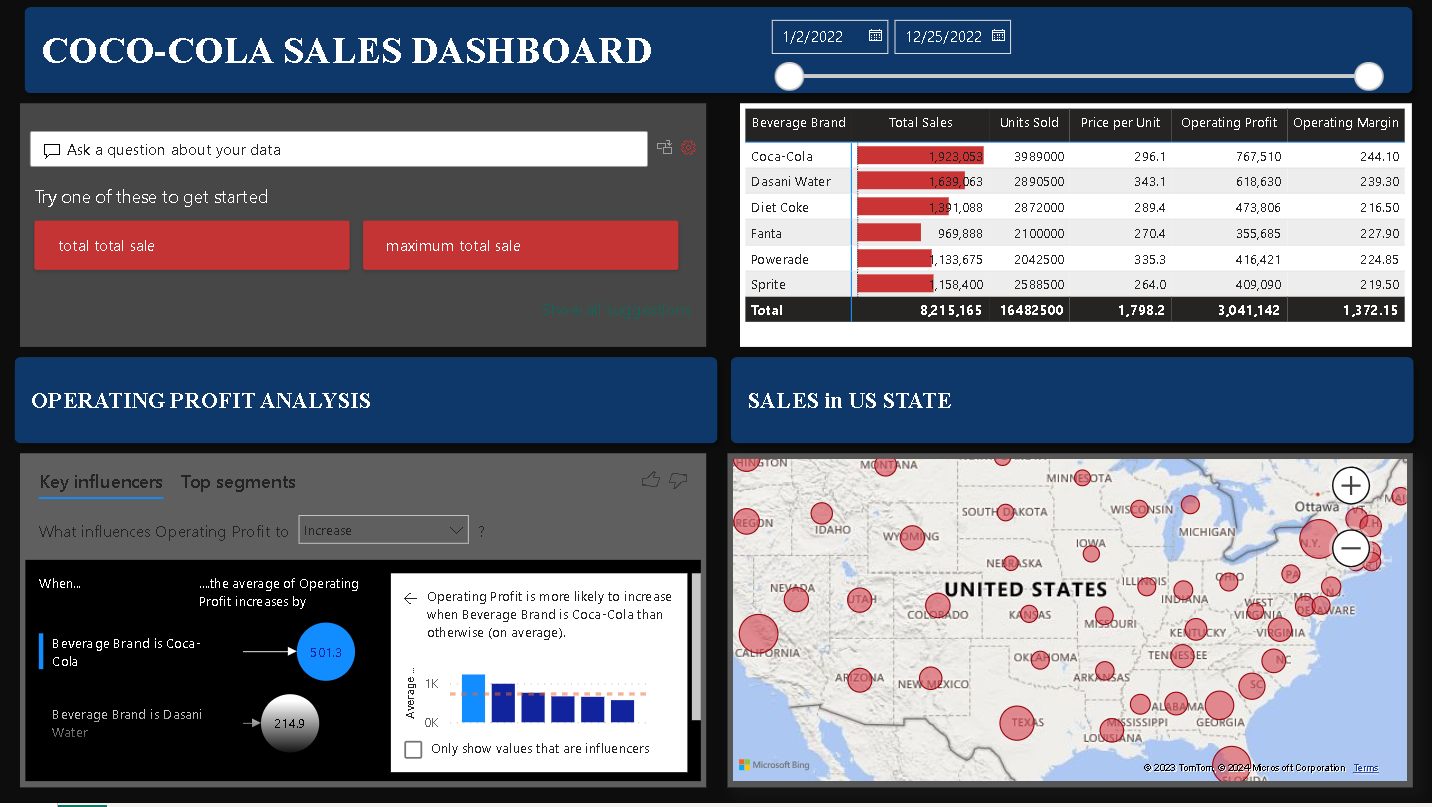

This screenshot's page, from the dashboard's own definition file:
{"tool":"powerbi","page":{"name":"Page 1","canvas":[1280,720],"ordinal":0},"visuals":[{"type":"shape","box":[8.9,0,1261.4,94.9],"z":0},{"type":"shape","box":[0,312.6,649.7,94.9],"z":1000},{"type":"shape","box":[639.6,312.6,631.8,94.9],"z":2000},{"type":"qnaVisual","box":[17.9,94.9,612.8,217.7],"z":3000},{"type":"keyDriversVisual","fields":{"Target":["Data.Operating Profit"],"ExplainBy":["Data.Beverage Brand"]},"box":[17.9,407.4,612.8,298],"z":4000},{"type":"map","fields":{"Category":["Data.State"],"Size":["Sum(Data.Total Sales)"]},"box":[649.7,407.4,611.7,298],"z":5000},{"type":"pivotTable","fields":{"Rows":["Data.Beverage Brand"],"Values":["Sum(Data.Total Sales)","Sum(Data.Units Sold)","Sum(Data.Price per Unit)","Sum(Data.Operating Profit)","Sum(Data.Operating Margin)"]},"box":[660.8,95.2,600.2,217.9],"z":6000},{"type":"slicer","fields":{"Values":["Data.Invoice Date"]},"box":[676.7,10.1,567,73.6],"z":6001}]}

Visuals, with their boxes in screenshot pixels (x1, y1, x2, y2), scaled from the page's 1280x720 canvas onto the 1432x807 screenshot:
shape: detection(10, 0, 1421, 106)
shape: detection(0, 350, 727, 457)
shape: detection(716, 350, 1422, 457)
qnaVisual: detection(20, 106, 706, 350)
keyDriversVisual - Data.Operating Profit x Data.Beverage Brand: detection(20, 457, 706, 791)
map - Data.State x Sum(Data.Total Sales): detection(727, 457, 1411, 791)
pivotTable - Data.Beverage Brand x Sum(Data.Total Sales): detection(739, 107, 1411, 351)
slicer - Data.Invoice Date: detection(757, 11, 1391, 94)
